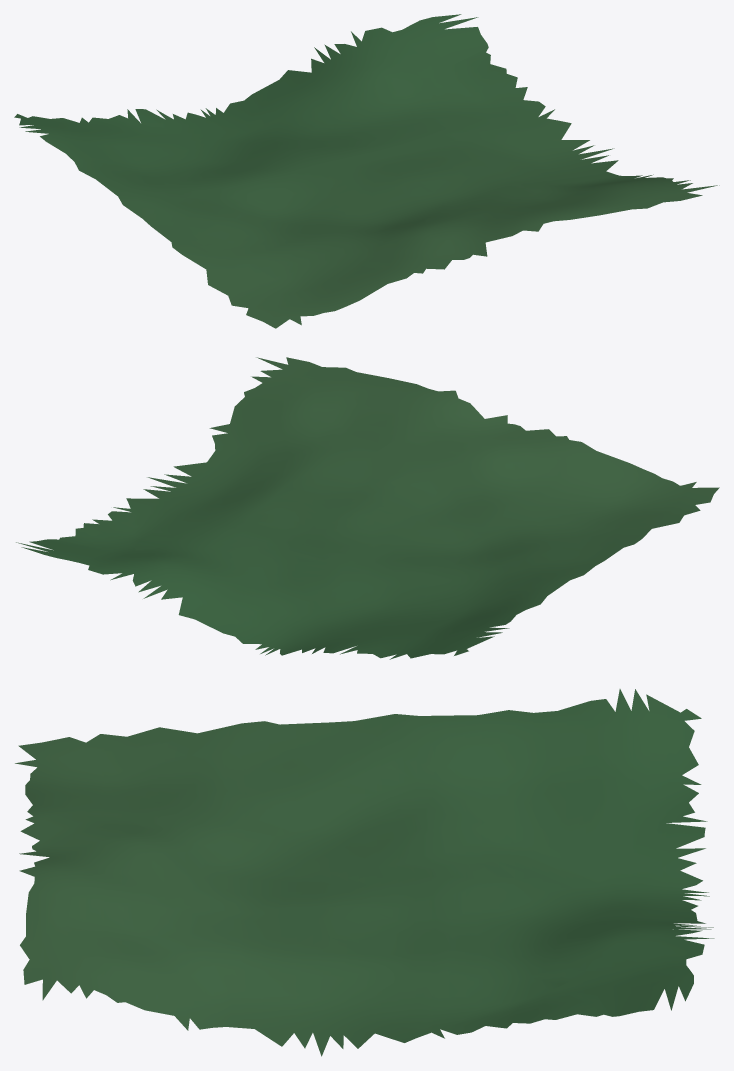
Rendered from payo_land_x2_y8.glb.
The picture shows the model from 3 angles, top to bottom: view 1: azimuth 30°, elevation 25°; view 2: azimuth 150°, elevation 25°; view 3: azimuth 270°, elevation 25°; orthographic projection. The views are drawn at different scales.
Parts seen in each view (by area): view 1: payo_land_x2_y8; view 2: payo_land_x2_y8; view 3: payo_land_x2_y8.
Part boxes in pixels (bbox=[...]): payo_land_x2_y8: bbox=[14, 14, 719, 328]; payo_land_x2_y8: bbox=[16, 357, 719, 659]; payo_land_x2_y8: bbox=[15, 689, 714, 1056].
Bounding box in the file's own units: 278 × 30.02 × 272.
